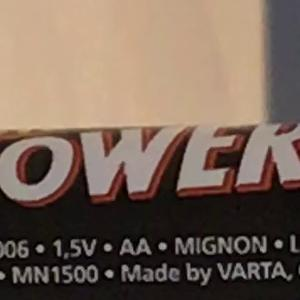keyword: (45, 230, 106, 266)
